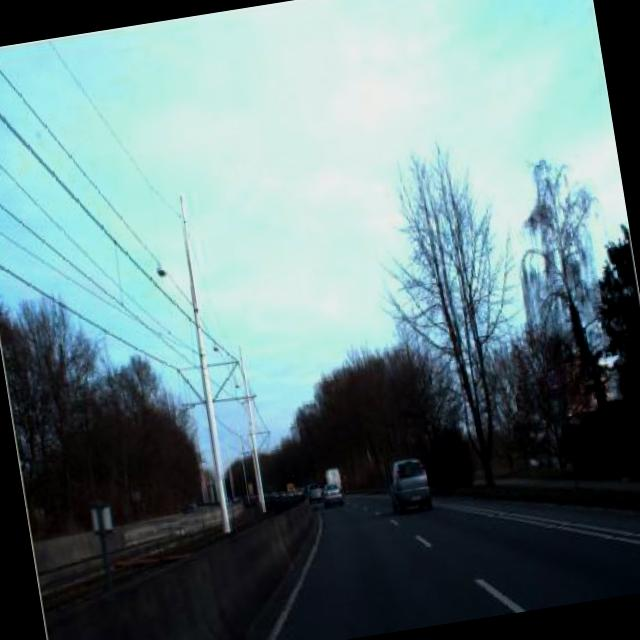Ograniczenie predkosci do 60: (542, 360, 566, 400)
